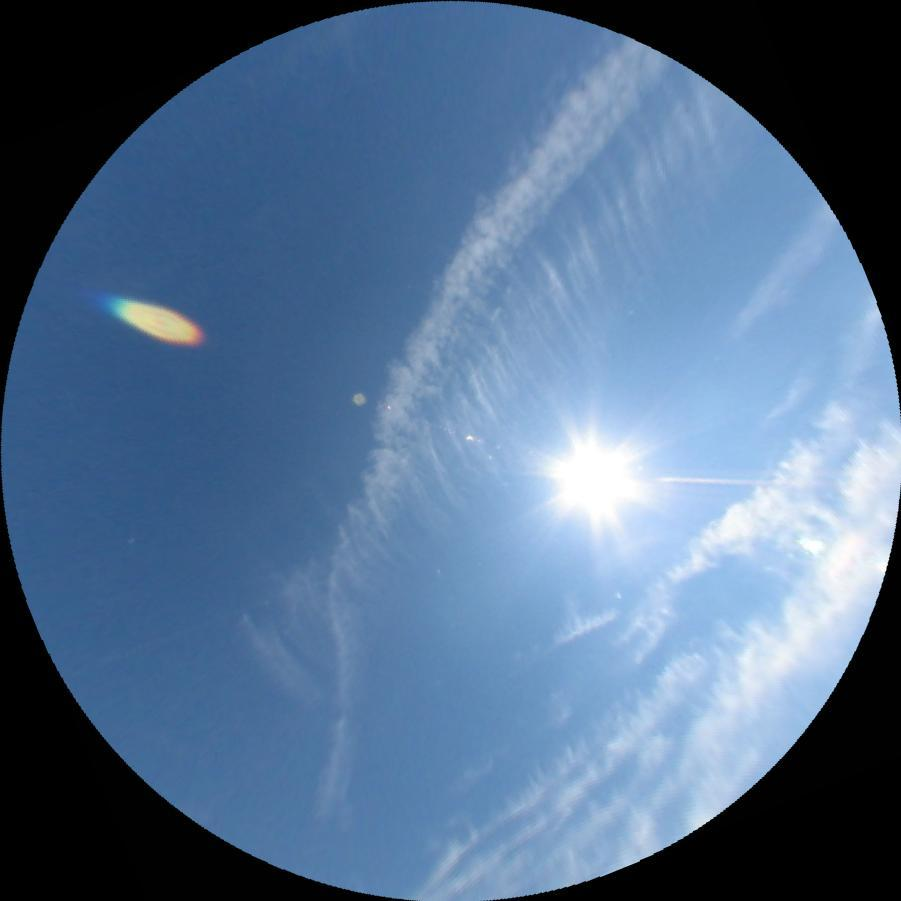contrail veryold: (205, 1, 678, 829), (215, 55, 788, 731), (725, 200, 851, 349)
parasite: (653, 474, 767, 486)
sun: (563, 449, 630, 508)
